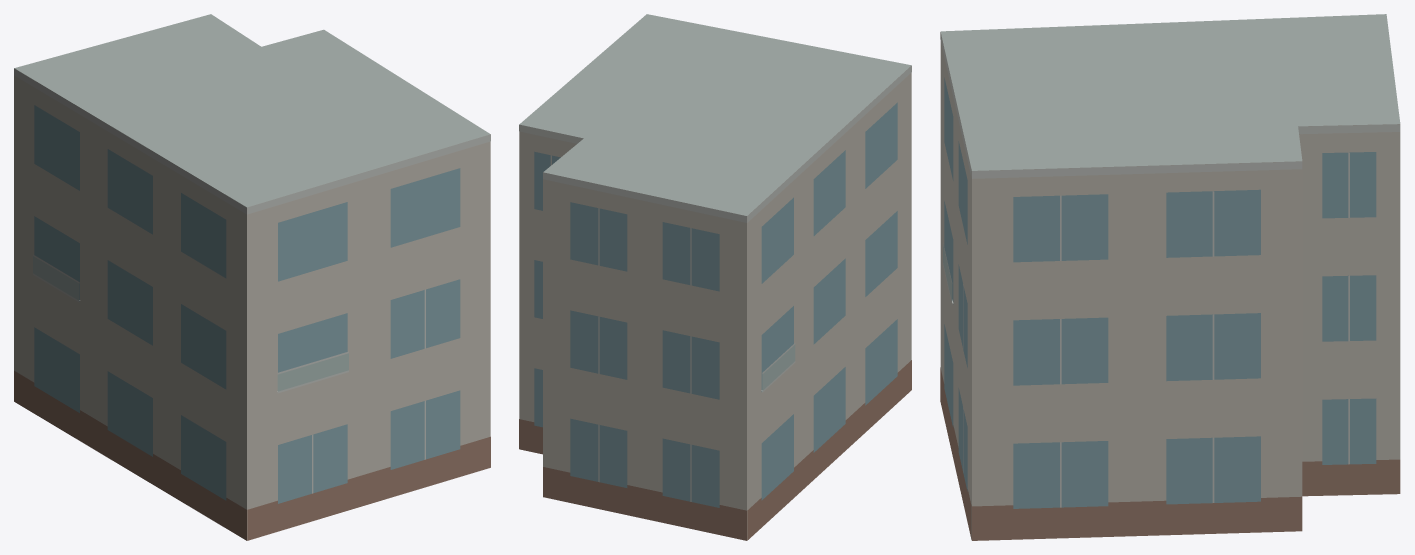
File: survey-upis-32989813.glb
3 renders of one model, left to right at view 1: azimuth 30°, elevation 25°; view 2: azimuth 150°, elevation 25°; view 3: azimuth 270°, elevation 25°, orthographic. The views are drawn at different scales.
Visible parts, largest first — view 1: survey-upis-32989813.tmp; view 2: survey-upis-32989813.tmp; view 3: survey-upis-32989813.tmp.
Boxes of the visible parts, left/top/right/bottom form: survey-upis-32989813.tmp: left=14, top=14, right=490, bottom=540; survey-upis-32989813.tmp: left=519, top=14, right=911, bottom=540; survey-upis-32989813.tmp: left=940, top=14, right=1400, bottom=540.
Size of the model in its own units: 10.38 by 11.4 by 12.86.
